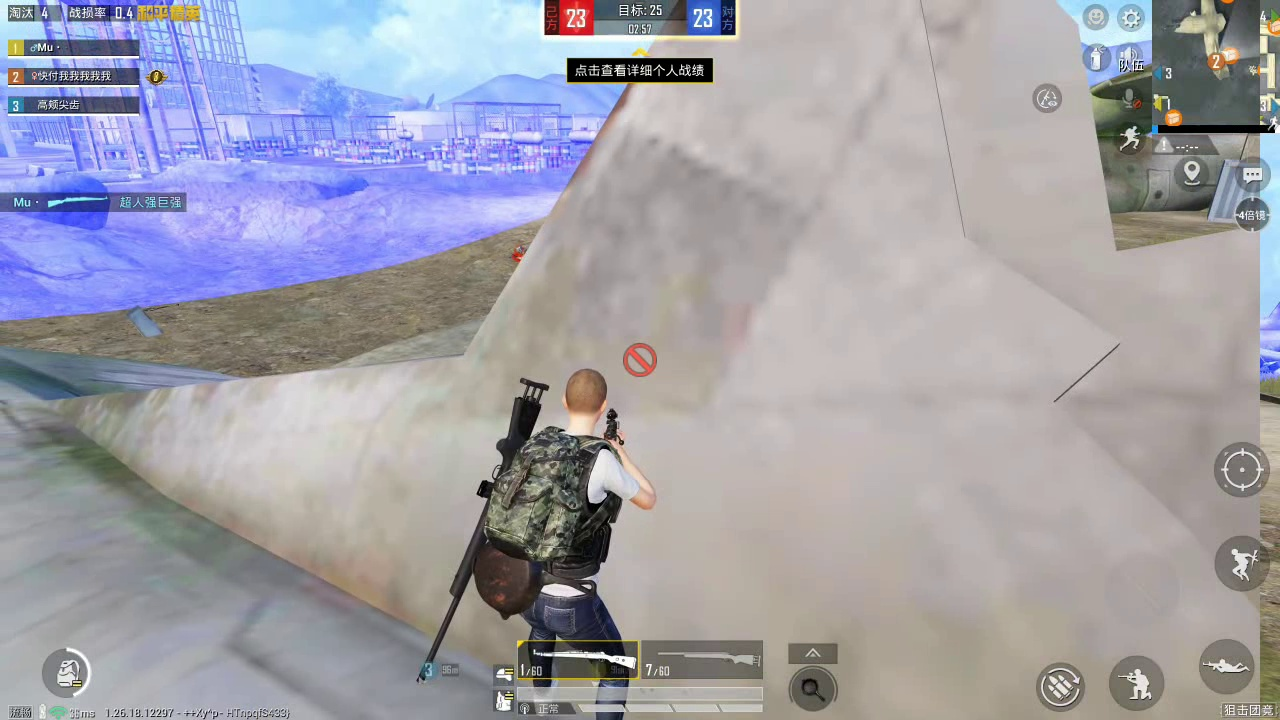enemy: (508, 241, 526, 263)
